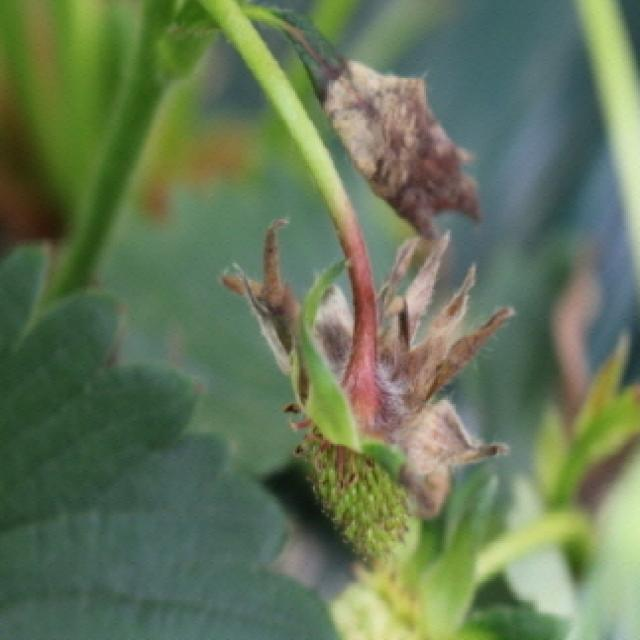Gray Mold: (217, 218, 515, 525)
